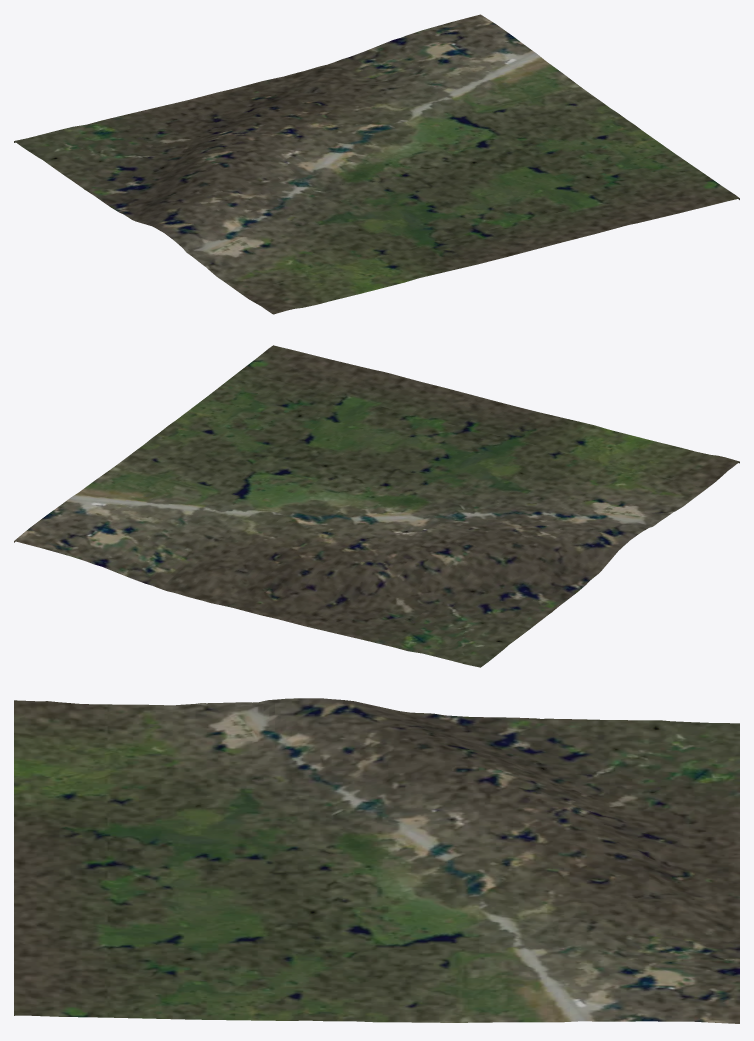
The picture shows the model from 3 angles, top to bottom: view 1: azimuth 30°, elevation 25°; view 2: azimuth 150°, elevation 25°; view 3: azimuth 270°, elevation 25°; orthographic projection. The views are drawn at different scales.
Size of the model in its own units: 250 by 12.99 by 241.
Materials: 1 (1 with a texture image).
